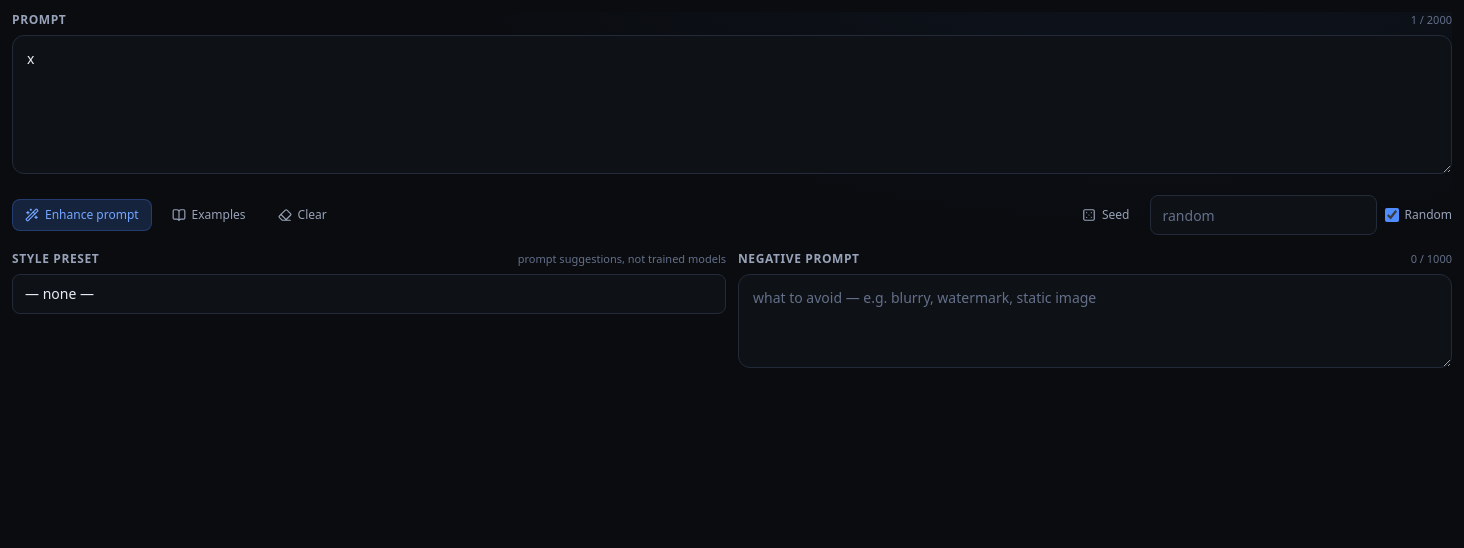
Test case: PromptEditor enhance flow › Discard throws the suggestion away
Click the button "Enhance prompt".
click(82, 215)  # box [12,199,152,231]
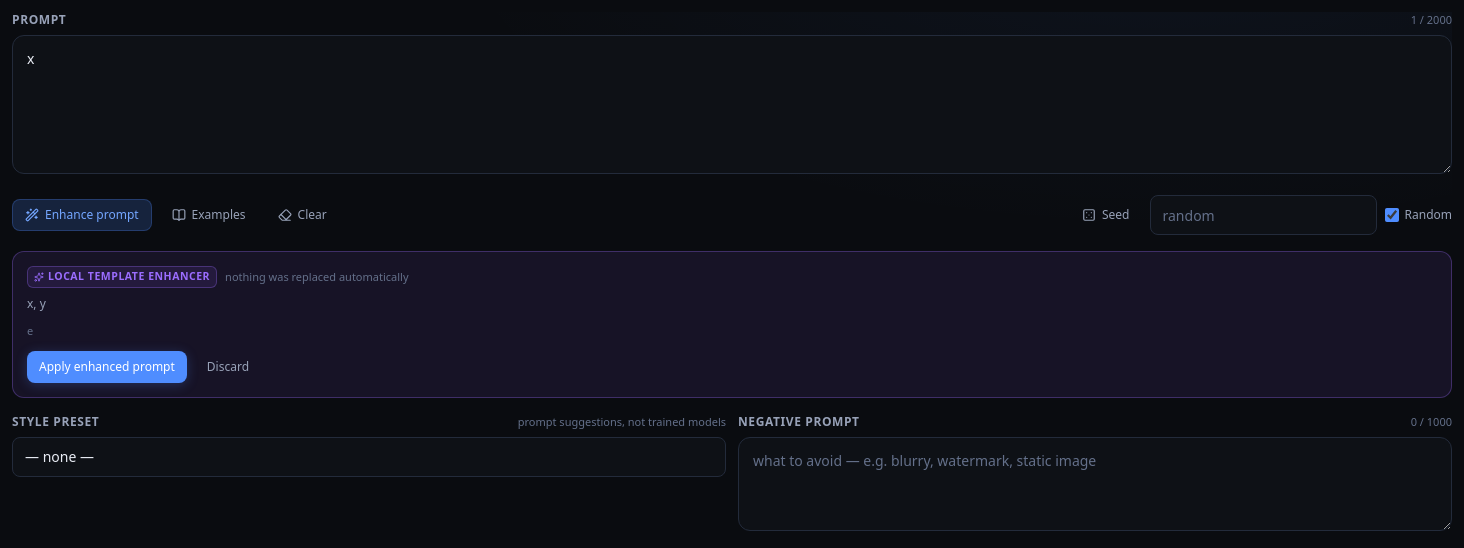
Now the text "x, y" is shown, box [27,295,46,312]
Click the button "Discard".
click(228, 367)  # box [195,351,261,383]
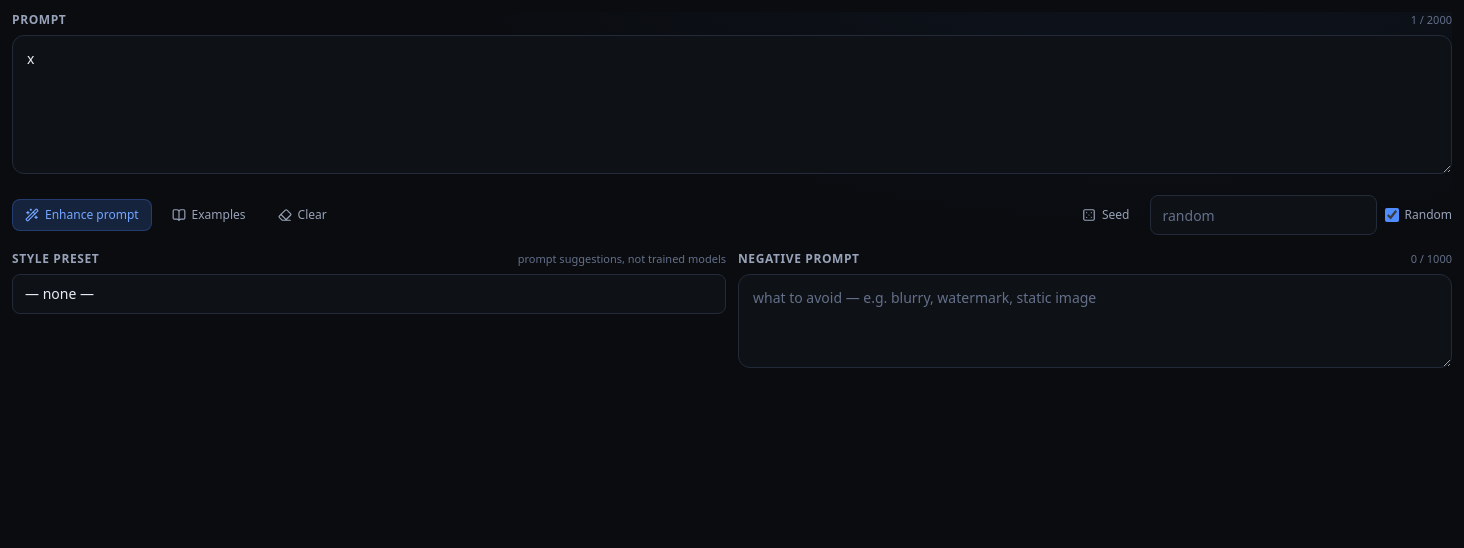
Now the text "x, y" is gone
